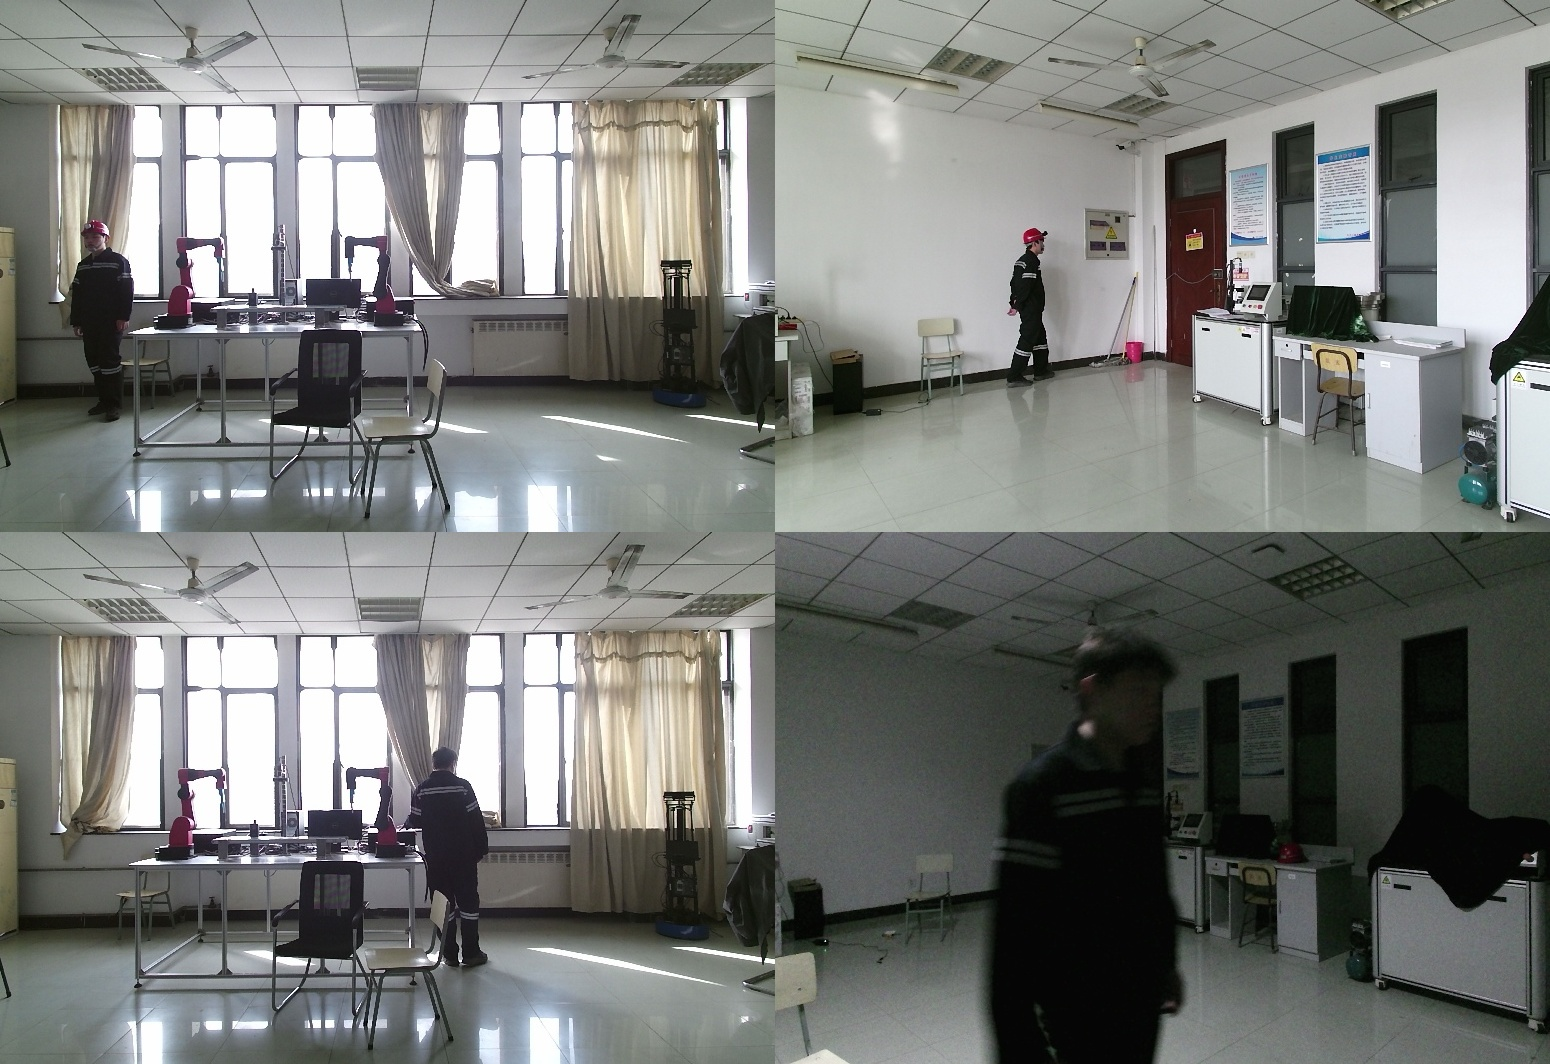person: (958, 637, 1186, 1064), (403, 746, 495, 969), (59, 222, 133, 422), (1007, 232, 1054, 391)
